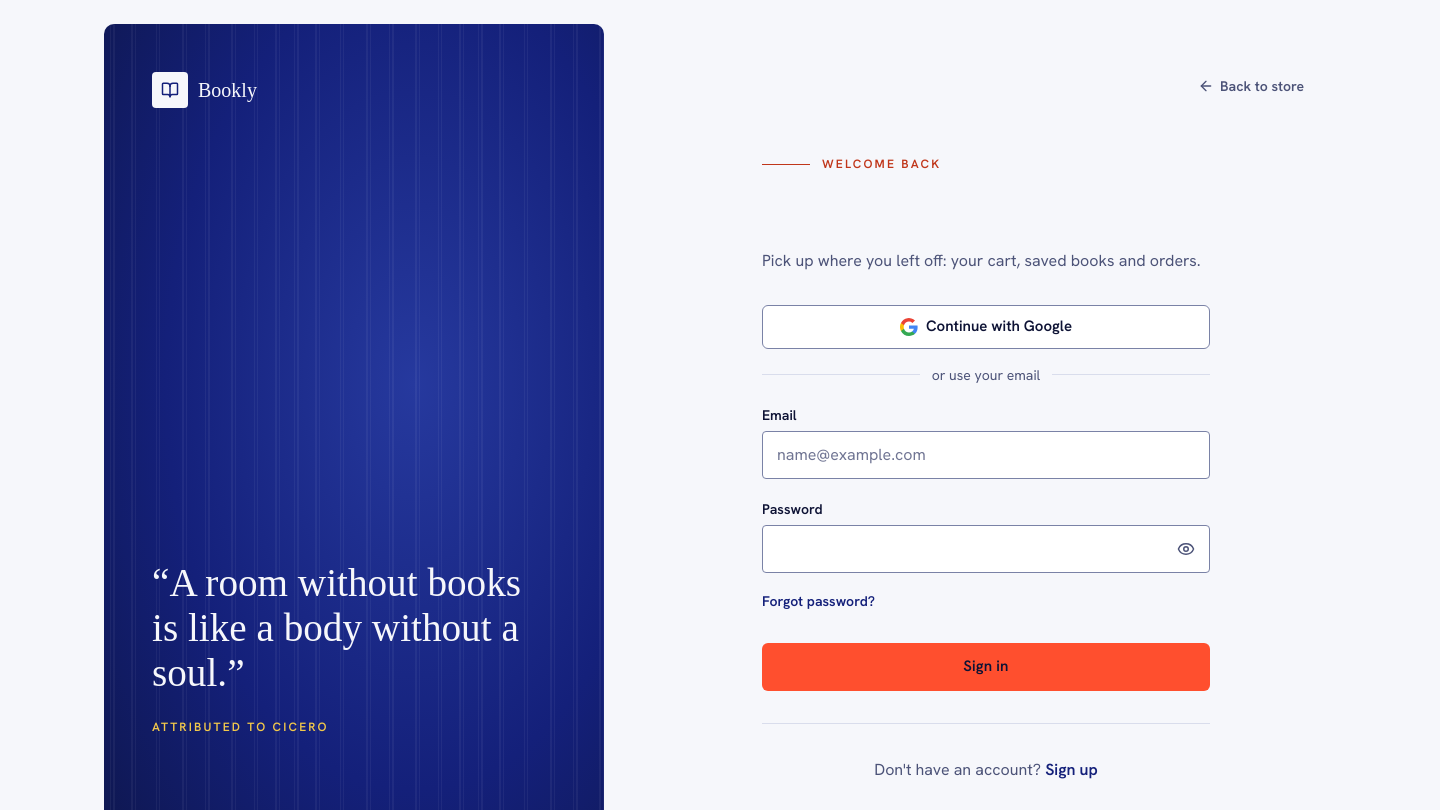
Test: social sign-in › tells someone whose email already has an account how to sign in instead
This screenshot has width=1440, height=810.
Click the button "Continue with Google" at (986, 327), box [762, 305, 1210, 349]
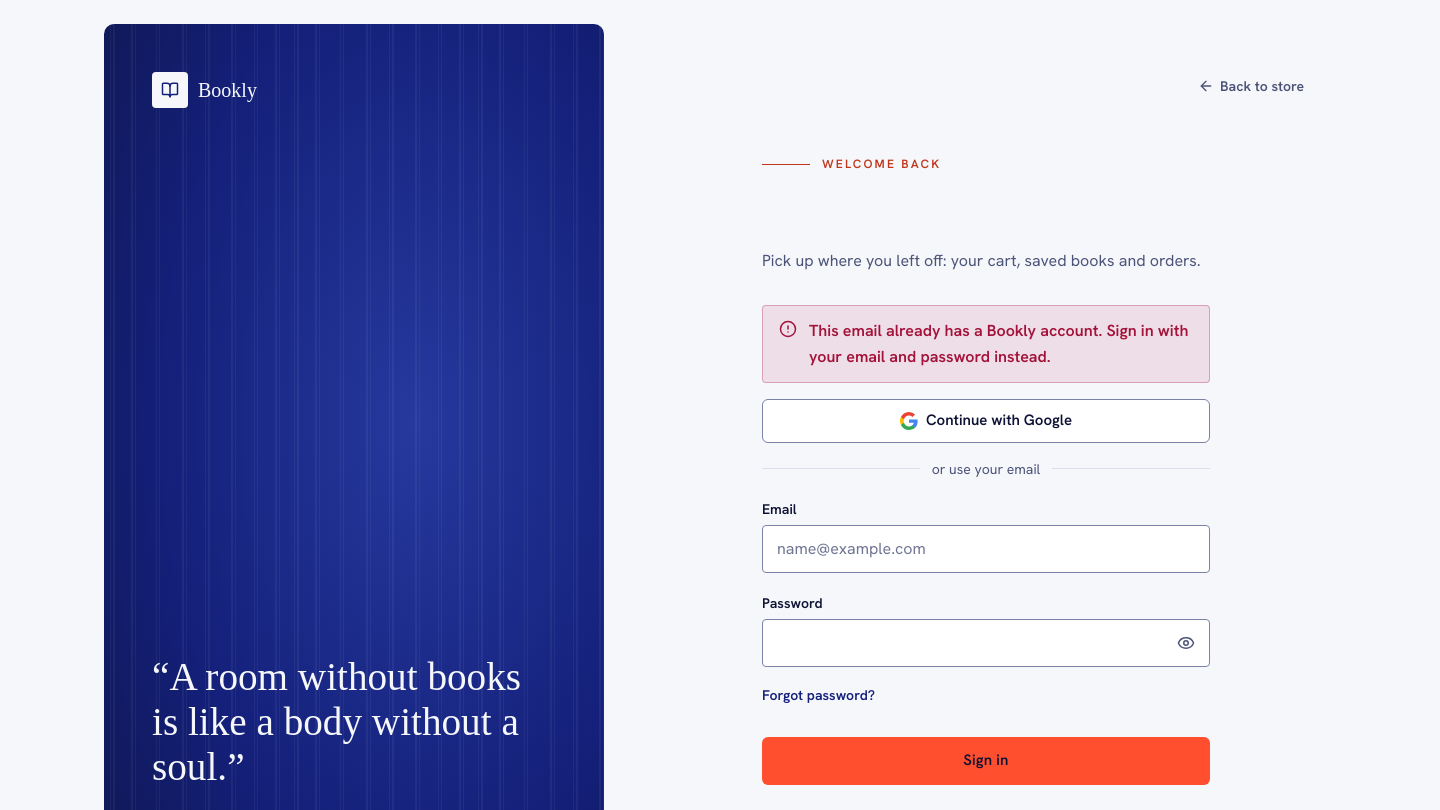
Expected: the text "This email already has a Bookly account. Sign in with your email and password instead." is shown, [809, 320, 1188, 367]
